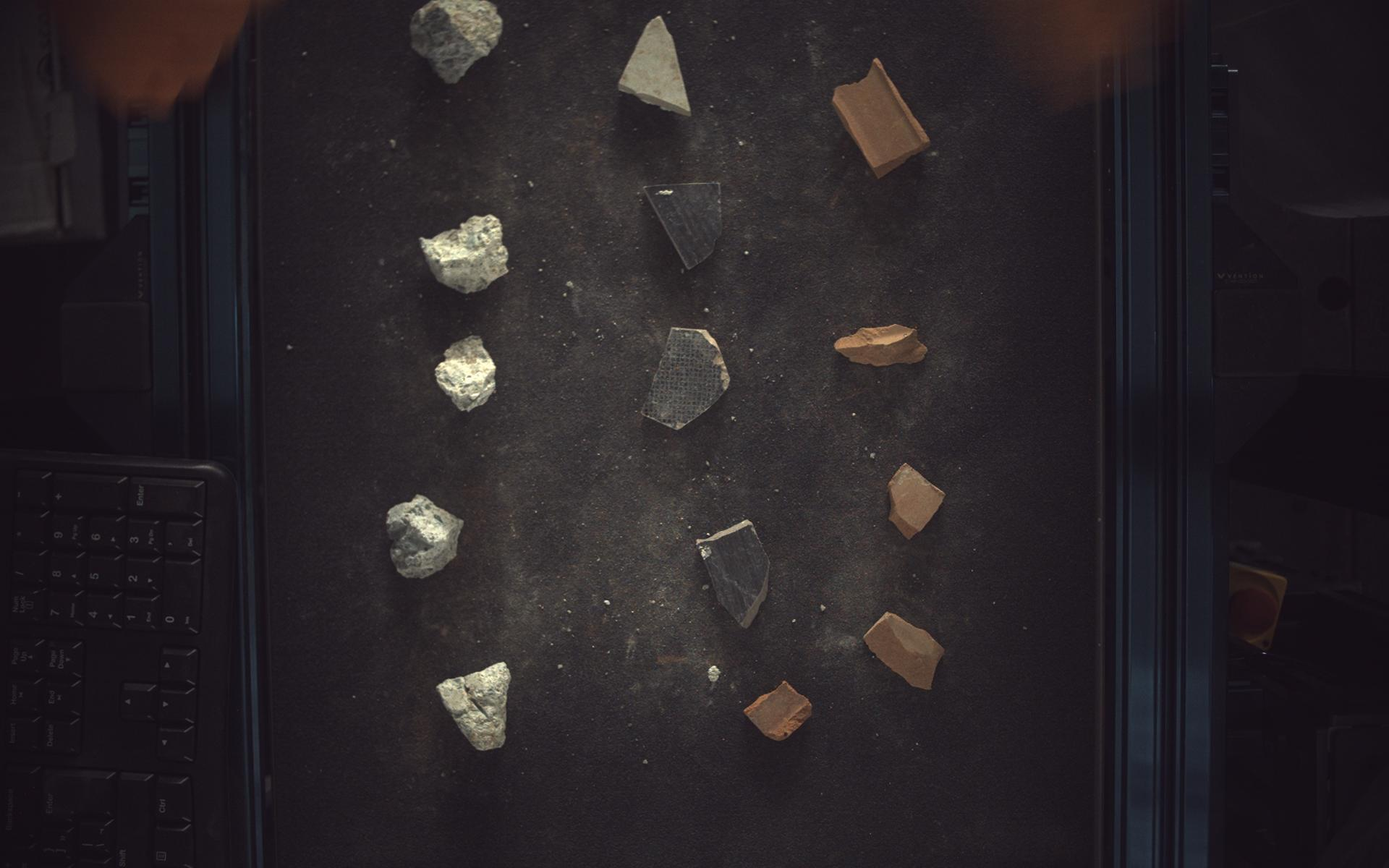brick: (833, 56, 932, 176), (867, 613, 946, 691), (890, 464, 947, 540), (745, 681, 814, 742), (836, 324, 930, 366)
concrete: (412, 1, 503, 82), (420, 213, 509, 293), (437, 663, 511, 752), (386, 495, 464, 579), (435, 335, 496, 412)
tile: (642, 328, 731, 430), (697, 520, 771, 629), (619, 14, 691, 114), (646, 183, 723, 268)
